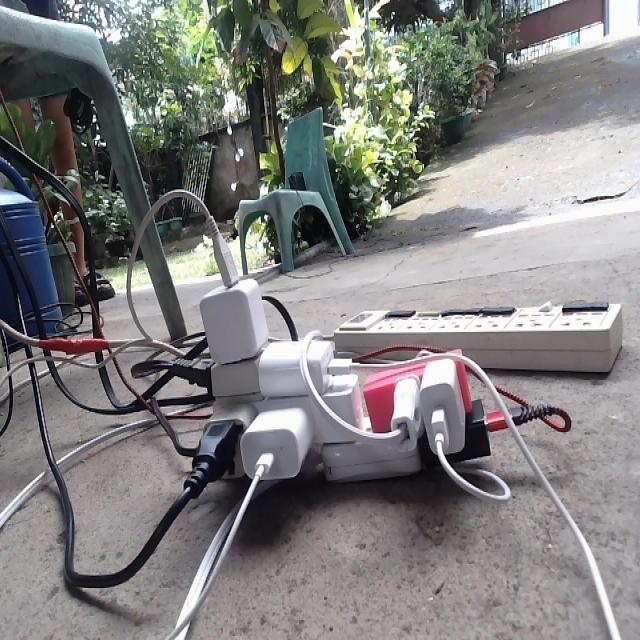-: (182, 252, 485, 485)
